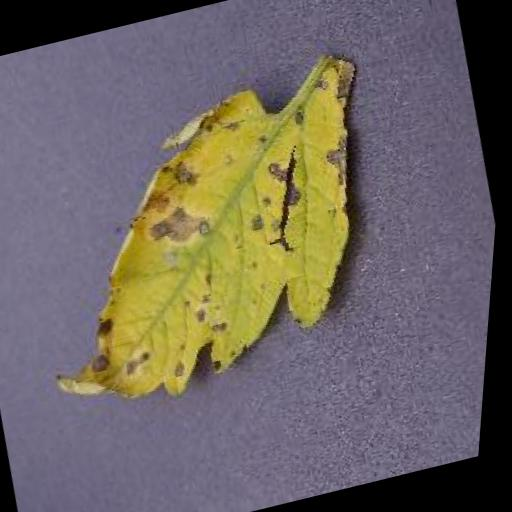Septoria: (0, 56, 429, 424)
